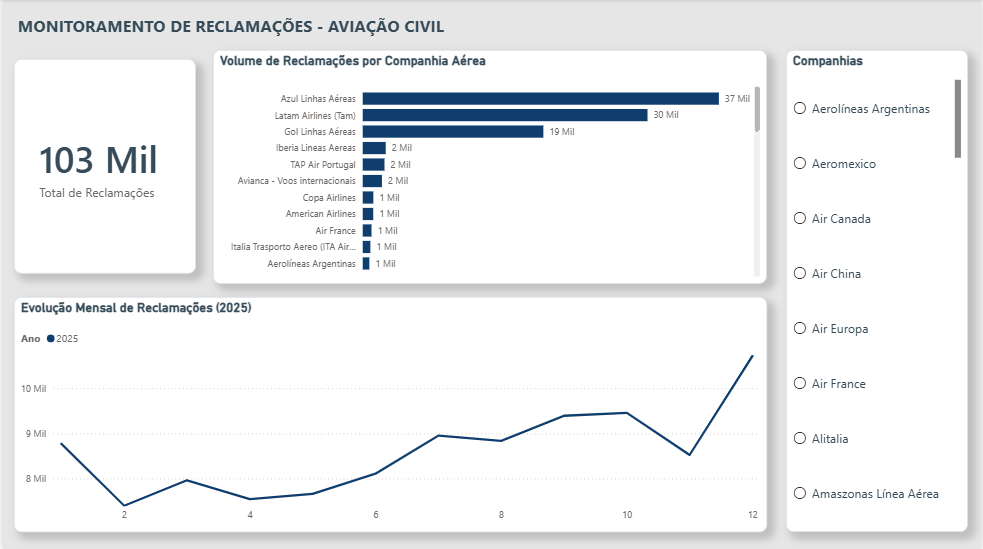

The page's visual inventory and layout, read from the dashboard file:
{"tool":"powerbi","page":{"name":"Visão Geral","canvas":[1280,720],"ordinal":0},"visuals":[{"type":"textbox","box":[310.3,17,720,40.6],"z":0},{"type":"cardVisual","fields":{"Data":["Sum(desempenho.contagem_reclamacoes)"]},"box":[22.3,17,266.4,280.8],"z":1000},{"type":"barChart","title":"Volume de Reclamações por Companhia Aérea","fields":{"Category":["desempenho.companhia"],"Y":["Sum(desempenho.contagem_reclamacoes)"]},"box":[365.2,404.5,705.6,306.3],"z":2000},{"type":"lineChart","title":"Evolução Mensal de Reclamações (2025)","fields":{"Category":["desempenho.mes_abertura"],"Series":["desempenho.ano_abertura"],"Y":["Sum(desempenho.contagem_reclamacoes)"]},"box":[365.2,78.5,705.6,307.6],"z":3000},{"type":"listSlicer","title":"Companhias","fields":{"Values":["desempenho.companhia"]},"box":[22.3,339.1,266.4,360],"z":4000}]}

Visuals, with their boxes in screenshot pixels (x1, y1, x2, y2), scaled from the page's 1280x720 canvas onto the 983x549 screenshot:
textbox: (238, 13, 791, 44)
cardVisual - Sum(desempenho.contagem_reclamacoes): (17, 13, 222, 227)
"Volume de Reclamações por Companhia Aérea" barChart: (280, 308, 822, 542)
"Evolução Mensal de Reclamações (2025)" lineChart: (280, 60, 822, 294)
"Companhias" listSlicer: (17, 259, 222, 533)
